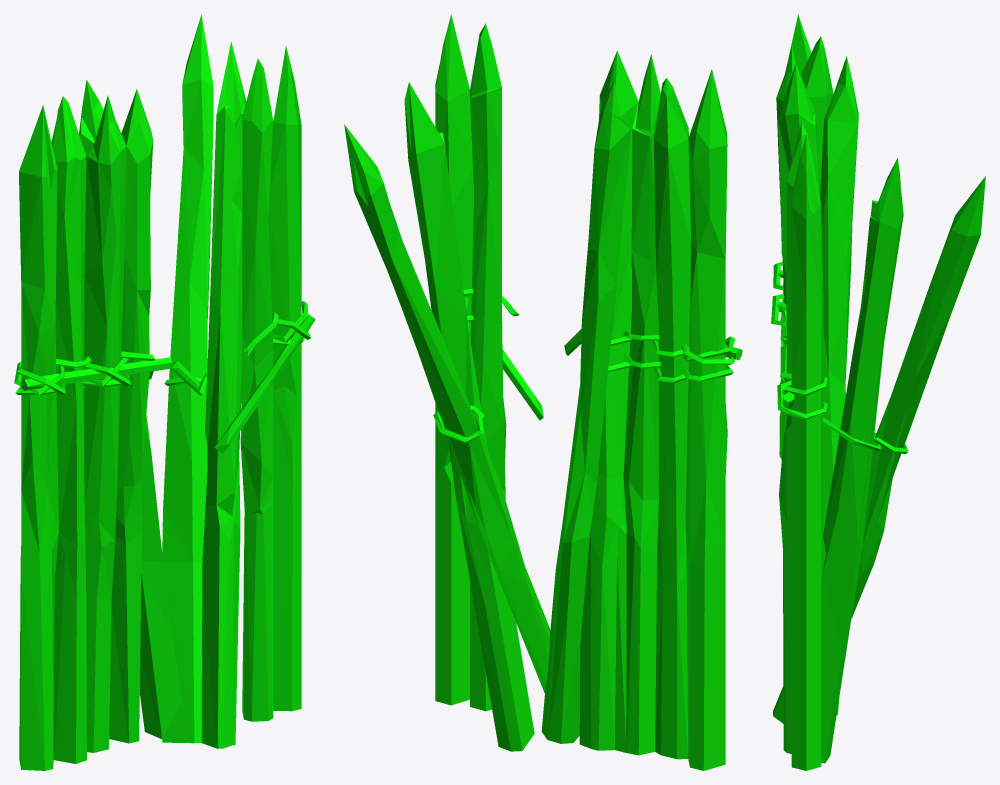
File: SM_Palisade_3m_Broken_G.fbx
The picture shows the model from 3 angles, left to right: view 1: azimuth 30°, elevation 25°; view 2: azimuth 150°, elevation 25°; view 3: azimuth 270°, elevation 25°; orthographic projection. The views are drawn at different scales.
Parts seen in each view (by area): view 1: palisade-3m-broken-g; view 2: palisade-3m-broken-g; view 3: palisade-3m-broken-g.
Boxes of the visible parts, box(x1,y1,x2,y2) form: palisade-3m-broken-g: box(14, 14, 315, 770); palisade-3m-broken-g: box(344, 14, 742, 770); palisade-3m-broken-g: box(771, 14, 985, 770).
Size of the model in its own units: 3.14 by 7.06 by 2.08.
